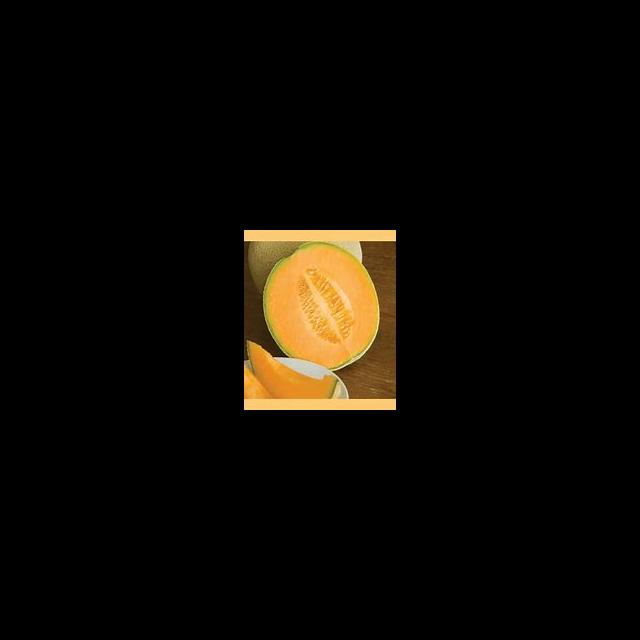Hami Melon: (263, 242, 380, 370), (246, 339, 339, 398)
